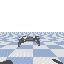drone: (18, 36, 41, 47)
